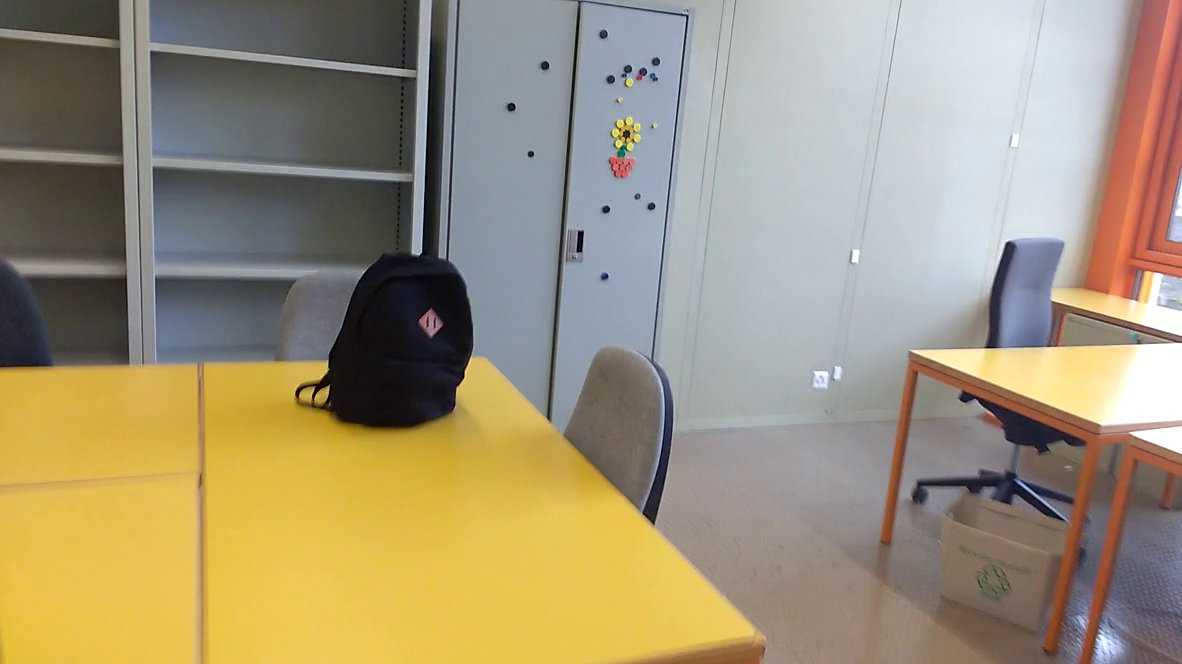bag: (295, 250, 481, 434)
box: (929, 488, 1079, 635)
chair: (940, 221, 1109, 559), (549, 328, 693, 550), (254, 260, 388, 371)
